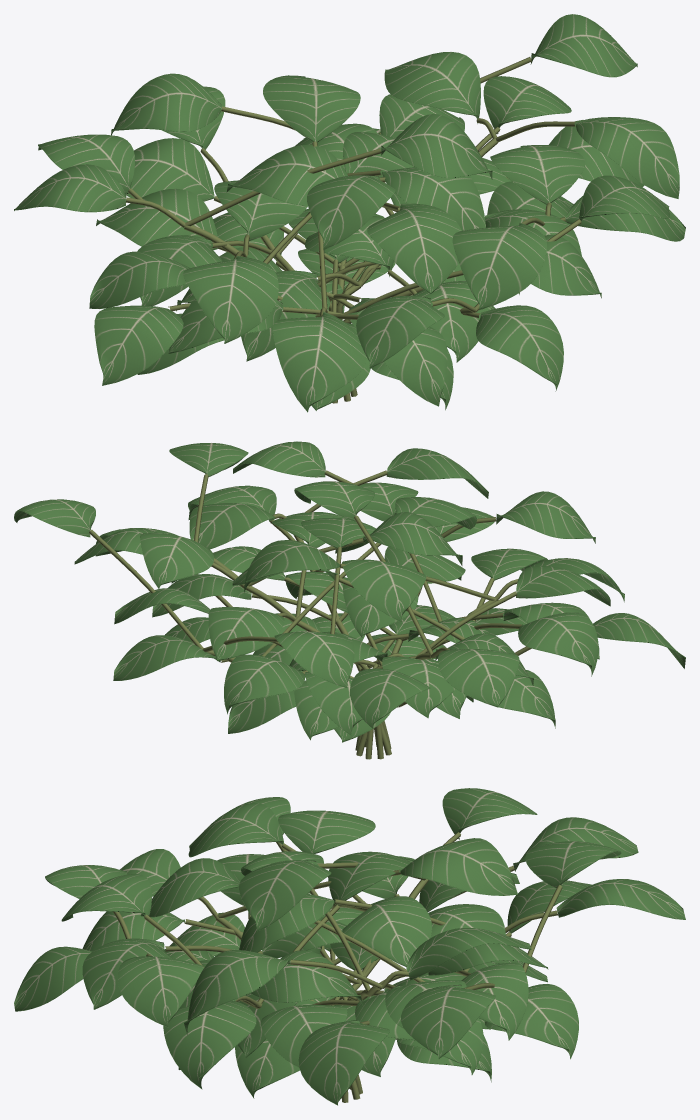
File: fittonia-stage-6.glb
3 views of the same model, one above another, from view 1: azimuth 30°, elevation 25°; view 2: azimuth 150°, elevation 25°; view 3: azimuth 270°, elevation 25° (orthographic). The views are drawn at different scales.
Parts seen in each view (by area): view 1: PlantBranches, Leaf_46, Leaf_51, Leaf_26, Leaf_39, Leaf_44, Leaf_53, Leaf_52, Leaf_32, Leaf_54, Leaf_47, Leaf_43 (+35 smaller); view 2: PlantBranches, Leaf_42, Leaf_35, Leaf_31, Leaf_40, Leaf_54, Leaf_20, Leaf_52, Leaf_29, Leaf_49, Leaf_50, Leaf_37 (+39 smaller); view 3: PlantBranches, Leaf_23, Leaf_34, Leaf_47, Leaf_55, Leaf_48, Leaf_45, Leaf_53, Leaf_43, Leaf_50, Leaf_38, Leaf_31 (+36 smaller).
Part boxes in pixels (bbox=[...]): PlantBranches: bbox=[125, 57, 581, 403]; Leaf_46: bbox=[272, 311, 366, 412]; Leaf_51: bbox=[452, 222, 546, 309]; Leaf_26: bbox=[183, 256, 278, 343]; Leaf_39: bbox=[367, 203, 461, 293]; Leaf_44: bbox=[94, 305, 183, 385]; Leaf_53: bbox=[576, 117, 679, 198]; Leaf_52: bbox=[384, 52, 480, 123]; Leaf_32: bbox=[476, 305, 563, 391]; Leaf_54: bbox=[111, 73, 221, 135]; Leaf_47: bbox=[263, 75, 360, 142]; Leaf_43: bbox=[381, 114, 492, 179]; PlantBranches: bbox=[89, 470, 531, 759]; Leaf_42: bbox=[438, 649, 519, 707]; Leaf_35: bbox=[342, 559, 426, 622]; Leaf_31: bbox=[518, 612, 598, 676]; Leaf_40: bbox=[224, 654, 305, 714]; Leaf_54: bbox=[274, 631, 354, 687]; Leaf_20: bbox=[208, 607, 284, 660]; Leaf_52: bbox=[140, 533, 213, 589]; Leaf_29: bbox=[350, 668, 430, 728]; Leaf_49: bbox=[496, 491, 595, 543]; Leaf_50: bbox=[189, 503, 275, 549]; Leaf_37: bbox=[363, 512, 462, 565]; PlantBranches: bbox=[113, 832, 562, 1102]; Leaf_23: bbox=[298, 1020, 389, 1105]; Leaf_34: bbox=[163, 1000, 256, 1089]; Leaf_47: bbox=[400, 838, 517, 895]; Leaf_55: bbox=[401, 984, 495, 1058]; Leaf_48: bbox=[118, 956, 203, 1027]; Leaf_45: bbox=[342, 896, 432, 966]; Leaf_53: bbox=[184, 950, 289, 1034]; Leaf_43: bbox=[239, 860, 331, 931]; Leaf_50: bbox=[250, 950, 363, 1007]; Leaf_38: bbox=[484, 984, 578, 1059]; Leaf_31: bbox=[278, 810, 375, 853].
Size of the model in its own units: 2.45 by 0.9746 by 2.24.
Materials: 2 (1 with a texture image).
